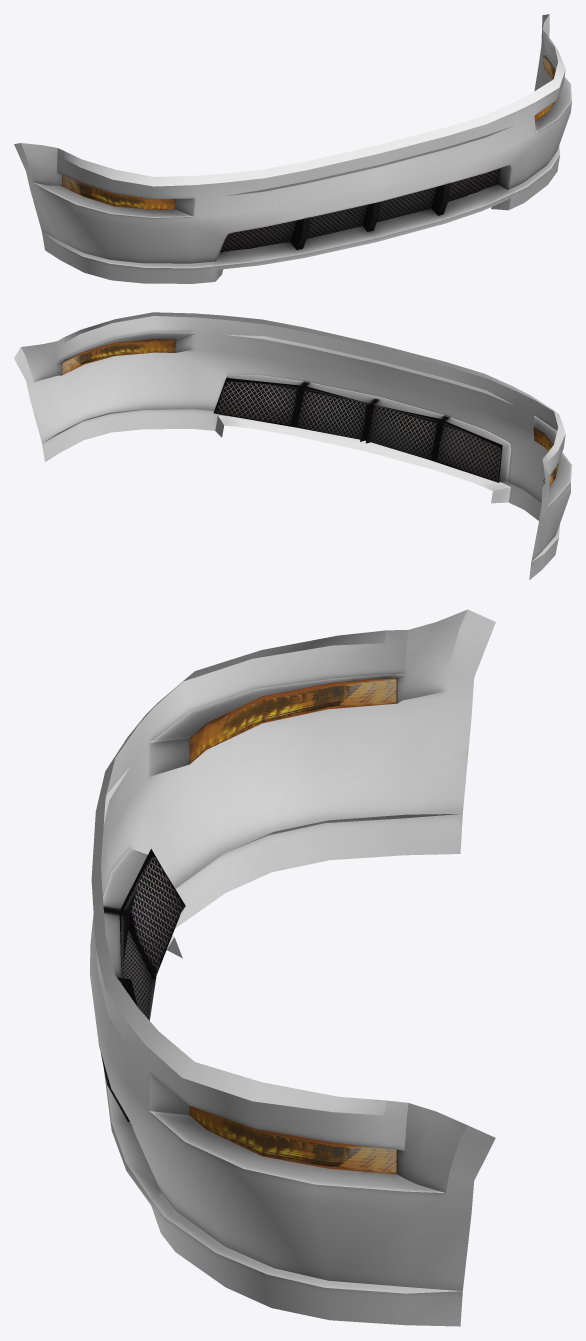
File: Sport_03_Bumper_F_1.fbx
3 views of the same model, one above another, from view 1: azimuth 30°, elevation 25°; view 2: azimuth 150°, elevation 25°; view 3: azimuth 270°, elevation 25° (orthographic). The views are drawn at different scales.
Visible parts, largest first — view 1: Sport_03_Bumper_F_1; view 2: Sport_03_Bumper_F_1; view 3: Sport_03_Bumper_F_1.
Part boxes in pixels (x1,y1,x2,y2): Sport_03_Bumper_F_1: (14, 14, 571, 283); Sport_03_Bumper_F_1: (14, 312, 571, 579); Sport_03_Bumper_F_1: (90, 609, 495, 1326).
Size of the model in its own units: 198 by 40.18 by 65.75.
